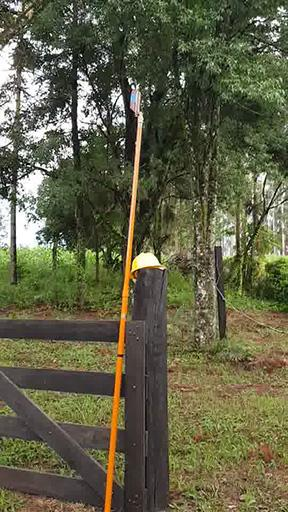Detector_Tensao_Contato: (127, 85, 142, 117)
Vara_Manobra: (103, 114, 144, 512)
